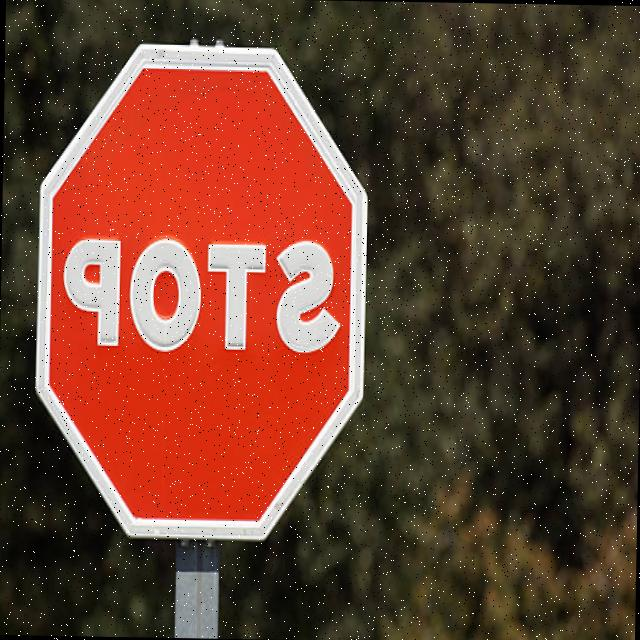stop: (36, 30, 374, 545)
